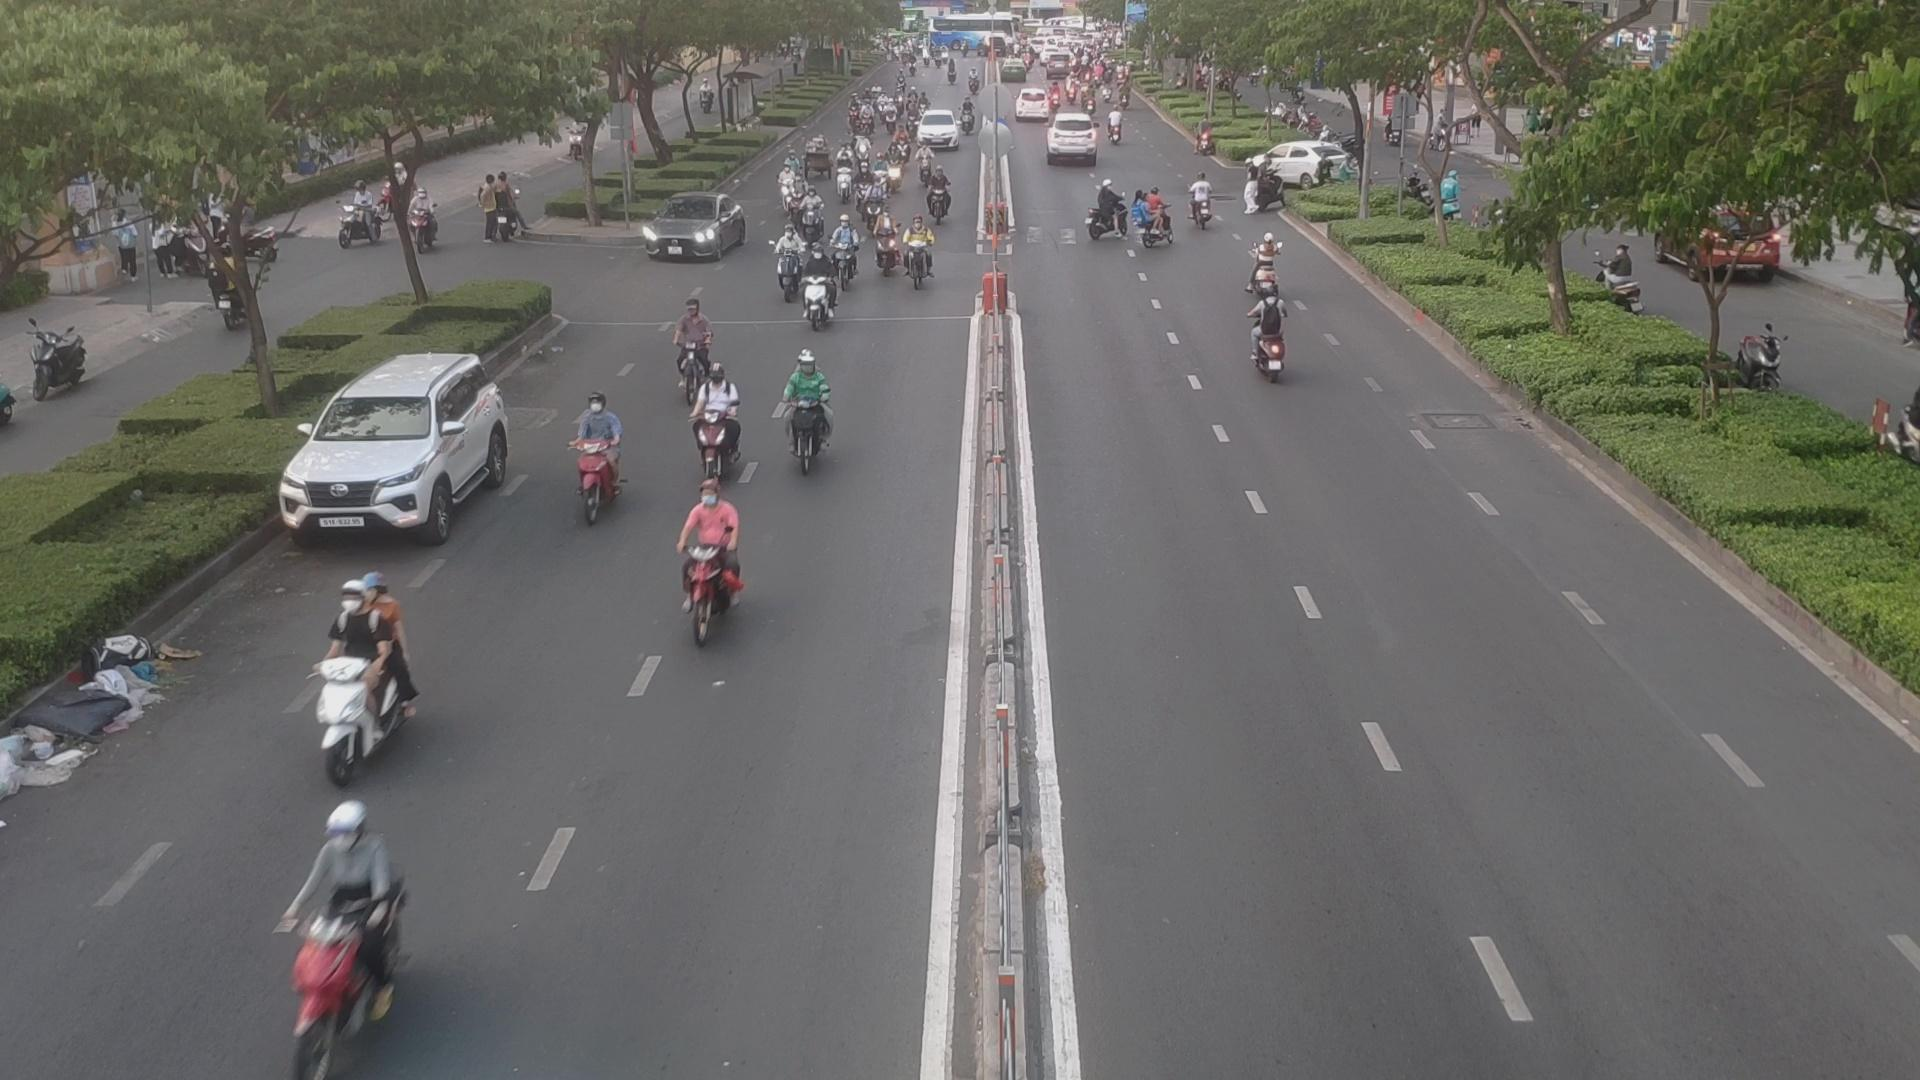car: (276, 348, 517, 541), (636, 194, 749, 262), (1255, 140, 1356, 189), (1044, 117, 1096, 167)
motorbike: (281, 574, 440, 786), (269, 833, 406, 1077), (562, 389, 647, 525), (676, 487, 735, 632), (663, 287, 725, 400), (1245, 285, 1299, 404), (793, 344, 833, 458), (694, 355, 735, 462), (802, 237, 839, 328), (764, 227, 803, 297), (902, 214, 942, 284), (1091, 183, 1130, 243), (1135, 193, 1171, 247), (877, 204, 899, 278), (1193, 177, 1222, 232), (836, 216, 856, 291), (924, 164, 951, 219), (802, 186, 827, 243), (786, 169, 810, 225), (1247, 235, 1269, 289), (866, 179, 884, 225), (916, 145, 932, 189), (775, 167, 793, 207), (893, 125, 909, 164), (857, 161, 866, 214), (839, 156, 848, 206), (891, 145, 898, 189)
